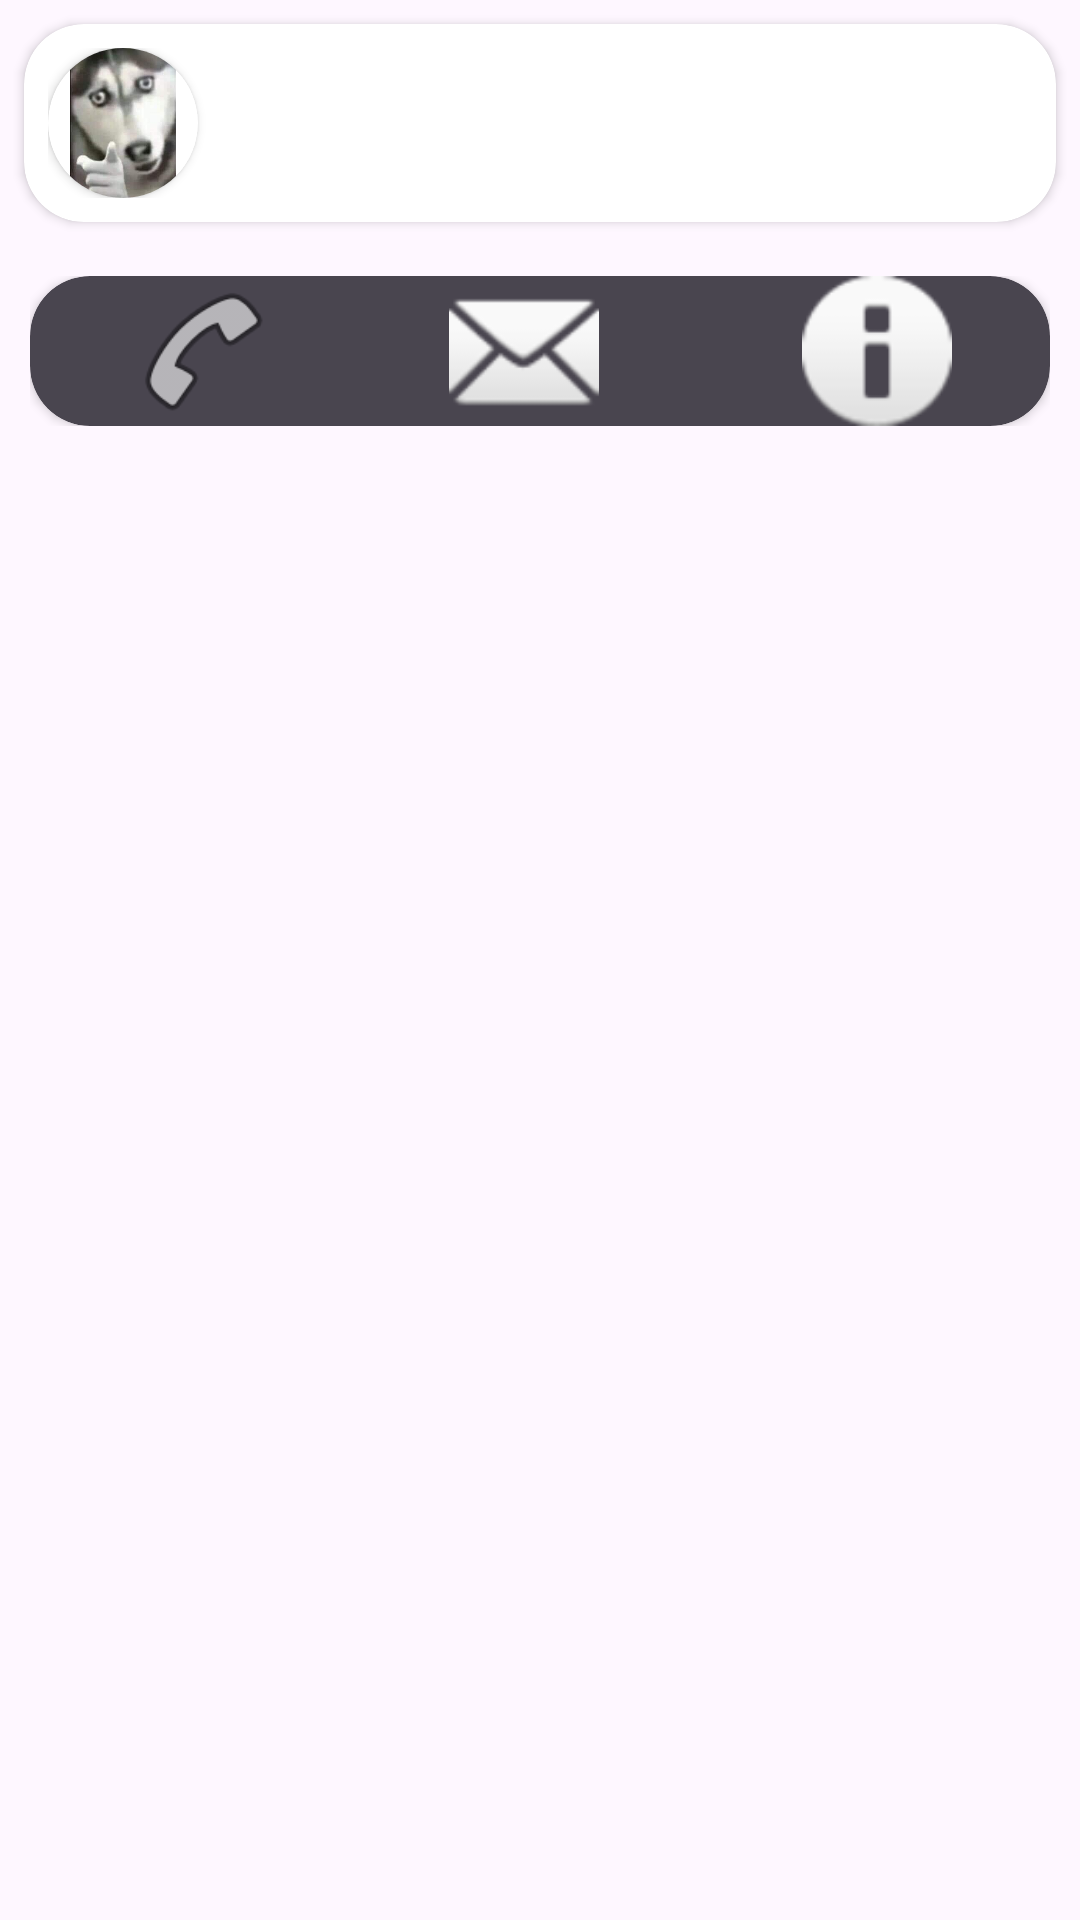

Icon click points for this 1080px x 1920px phone screenshot, format (x=x, y=y):
Button Call: (x=204, y=352)
Button Info: (x=877, y=351)
Button Message: (x=524, y=351)
Contact Avatar: (x=112, y=123)
